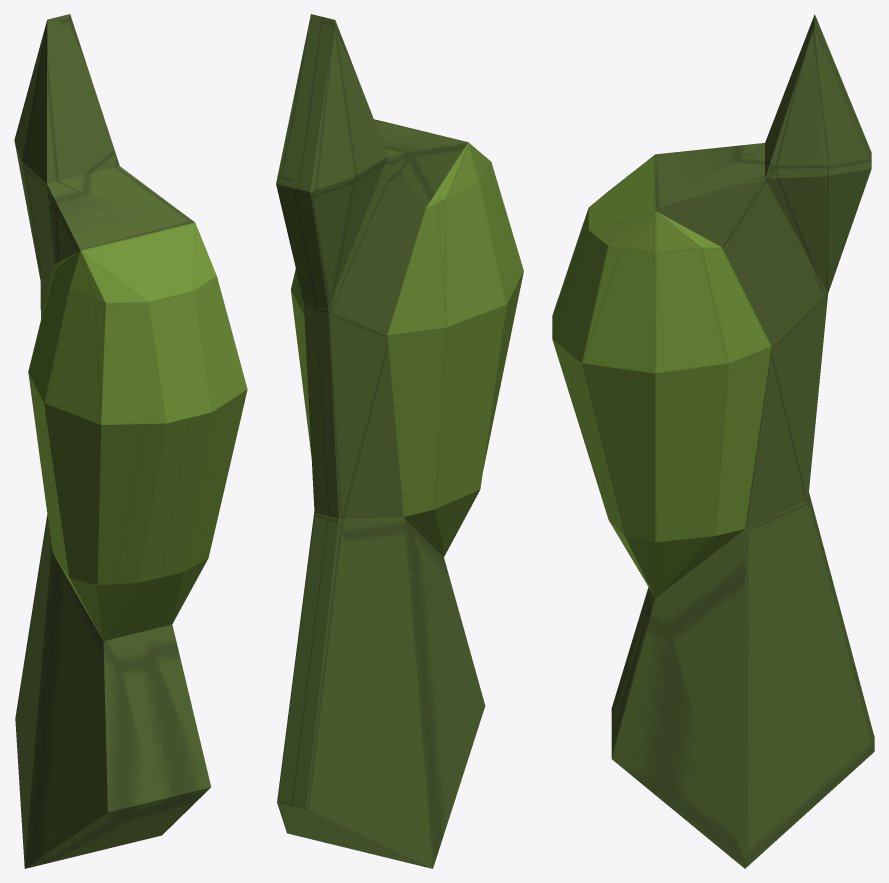
File: RLeagUnder.fbx
3 views of the same model, side by side, from view 1: azimuth 30°, elevation 25°; view 2: azimuth 150°, elevation 25°; view 3: azimuth 270°, elevation 25° (orthographic). The views are drawn at different scales.
Visible parts, largest first — view 1: Shape_IndexedFaceSet.051, Shape_IndexedFaceSet.050; view 2: Shape_IndexedFaceSet.050, Shape_IndexedFaceSet.051; view 3: Shape_IndexedFaceSet.050, Shape_IndexedFaceSet.051.
Boxes of the visible parts, x1=… form: Shape_IndexedFaceSet.051: x1=28, y1=222, x2=247, y2=640; Shape_IndexedFaceSet.050: x1=14, y1=14, x2=210, y2=868; Shape_IndexedFaceSet.050: x1=276, y1=14, x2=485, y2=868; Shape_IndexedFaceSet.051: x1=291, y1=142, x2=523, y2=556; Shape_IndexedFaceSet.050: x1=611, y1=14, x2=874, y2=868; Shape_IndexedFaceSet.051: x1=552, y1=154, x2=771, y2=597.
Bounding box in the file's own units: 0.1349 × 0.5573 × 0.1998.
